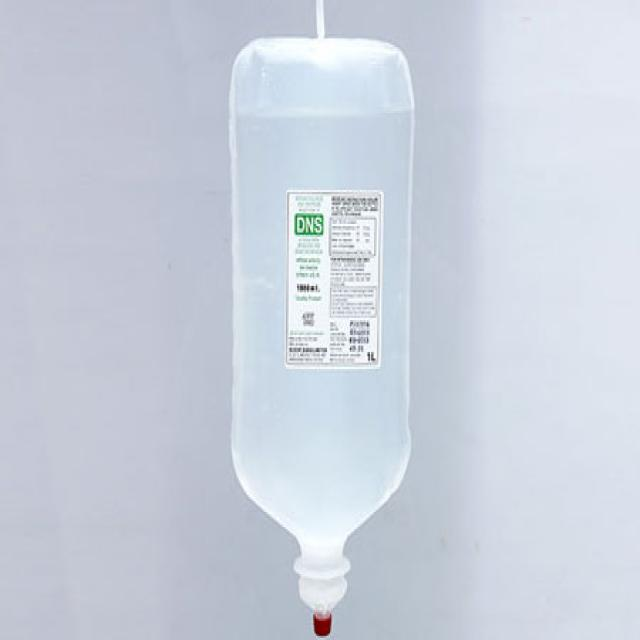B3: (223, 0, 424, 640)
